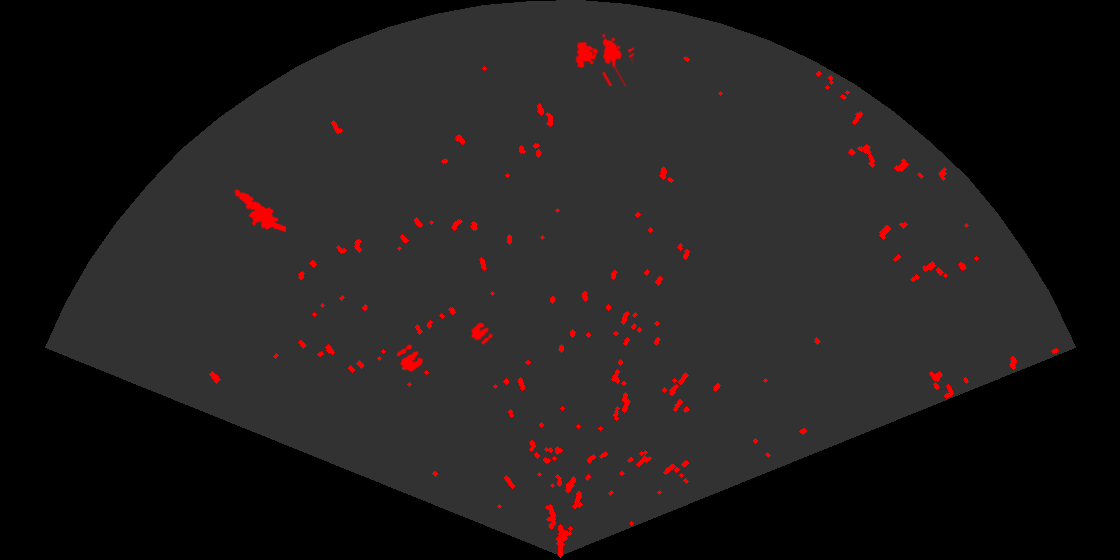ball: (395, 343, 425, 374), (470, 321, 495, 346)
cage: (574, 32, 634, 86)
frogman: (223, 186, 286, 234)
